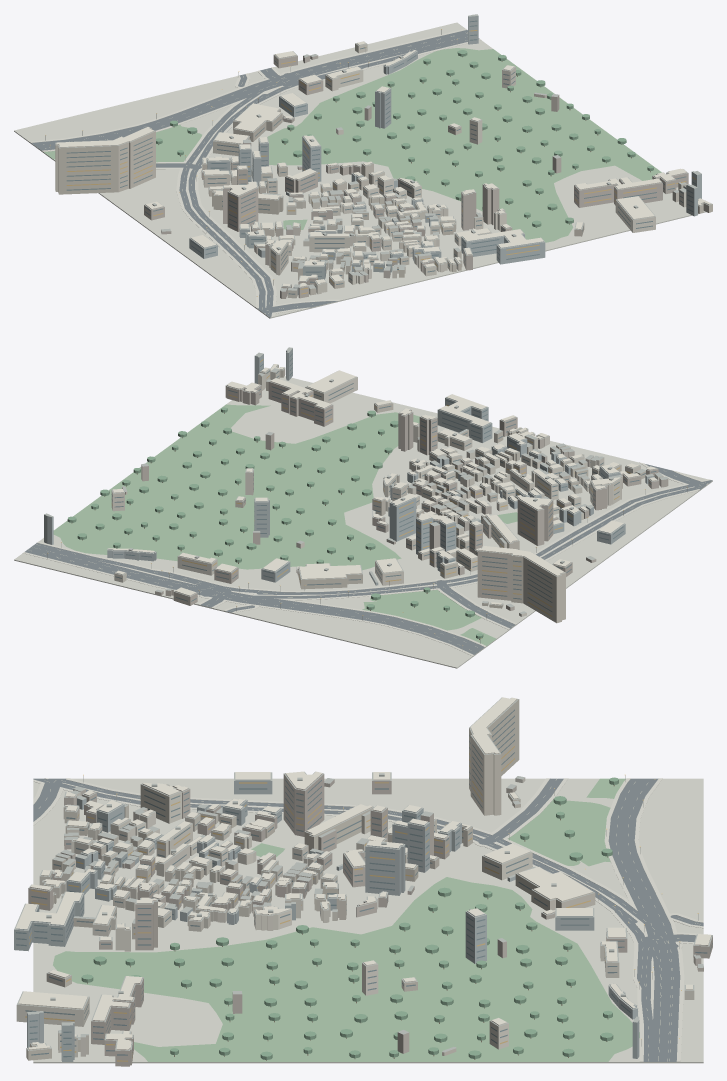
3 renders of one model, top to bottom at view 1: azimuth 30°, elevation 25°; view 2: azimuth 150°, elevation 25°; view 3: azimuth 270°, elevation 25°, orthographic. The views are drawn at different scales.
Parts seen in each view (by area): view 1: city; view 2: city; view 3: city.
Part boxes in pixels (bbox=[...]): city: bbox=[14, 14, 712, 318]; city: bbox=[14, 347, 712, 668]; city: bbox=[14, 697, 712, 1066].
Size of the model in its own units: 544 by 51.75 by 521.
